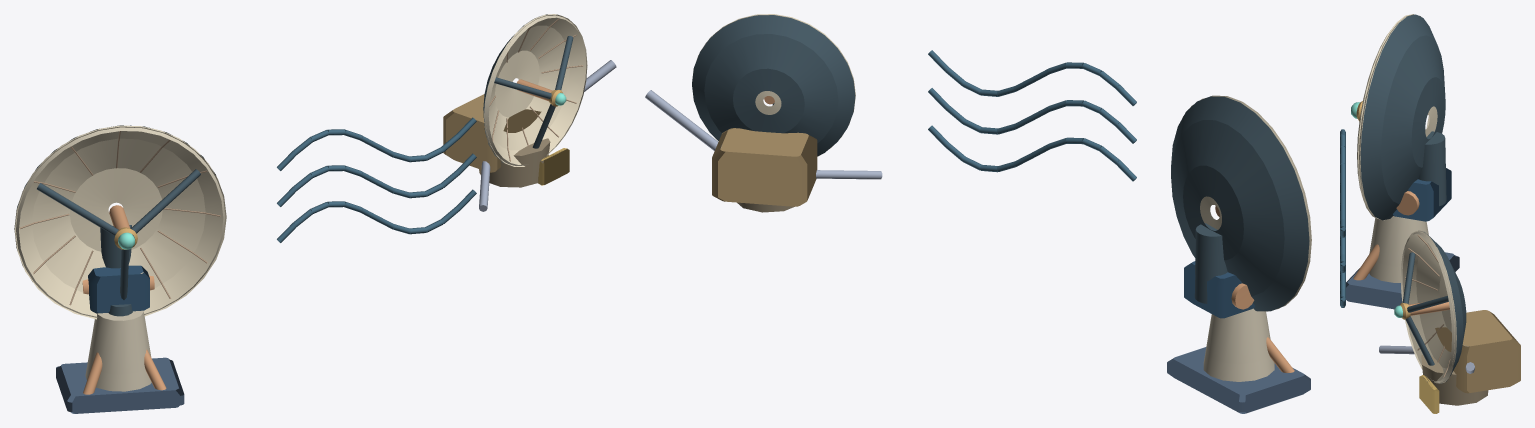
File: pioneer-senal.obj
3 renders of one model, left to right at view 1: azimuth 30°, elevation 25°; view 2: azimuth 150°, elevation 25°; view 3: azimuth 270°, elevation 25°, orthographic. The views are drawn at different scales.
Visible parts, largest first — view 1: pioneer-senal; view 2: pioneer-senal; view 3: pioneer-senal.
Part boxes in pixels (x1=…): pioneer-senal: x1=14, y1=14, x2=616, y2=413; pioneer-senal: x1=645, y1=14, x2=1311, y2=413; pioneer-senal: x1=1340, y1=14, x2=1520, y2=413.
Size of the model in its own units: 1.44 by 0.5998 by 0.3738.
